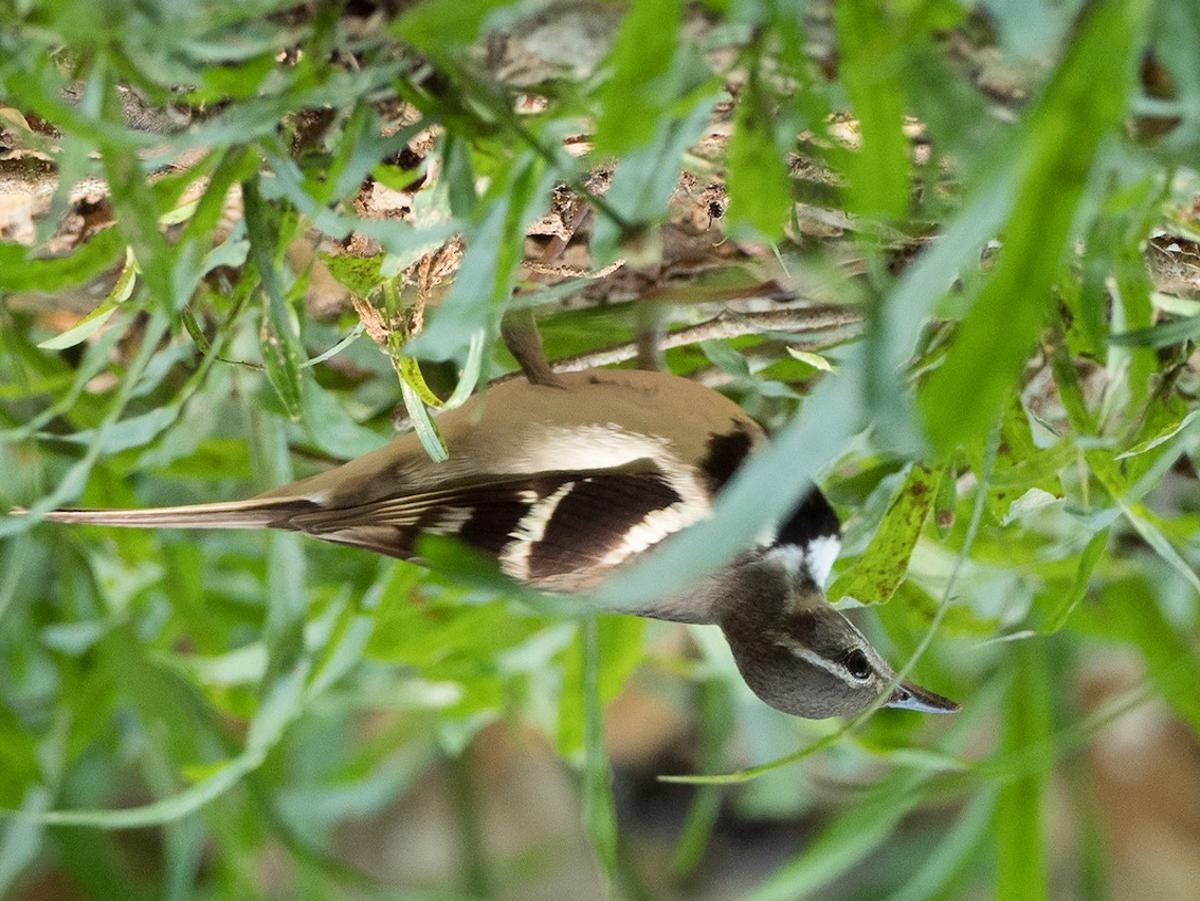wagtail: (124, 304, 957, 731)
